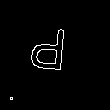P_S: (35, 28, 75, 82)
